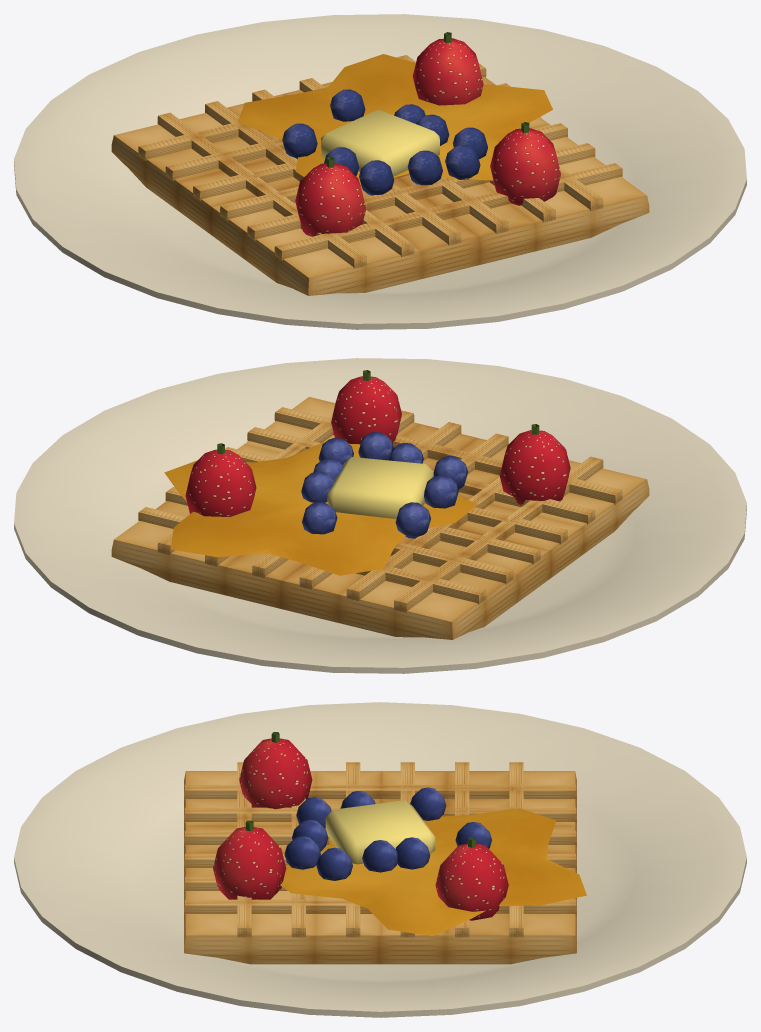
File: bakery_waffle_berries.glb
The picture shows the model from 3 angles, top to bottom: view 1: azimuth 30°, elevation 25°; view 2: azimuth 150°, elevation 25°; view 3: azimuth 270°, elevation 25°; orthographic projection.
Visible parts, largest first — view 1: bakery_waffle_berries; view 2: bakery_waffle_berries; view 3: bakery_waffle_berries.
Boxes of the visible parts, left/top/right/bottom form: bakery_waffle_berries: left=14, top=14, right=746, bottom=329; bakery_waffle_berries: left=14, top=358, right=746, bottom=673; bakery_waffle_berries: left=14, top=702, right=746, bottom=1017.
Size of the model in its own units: 0.28 by 0.0506 by 0.28.
Materials: 7 (4 with a texture image).
